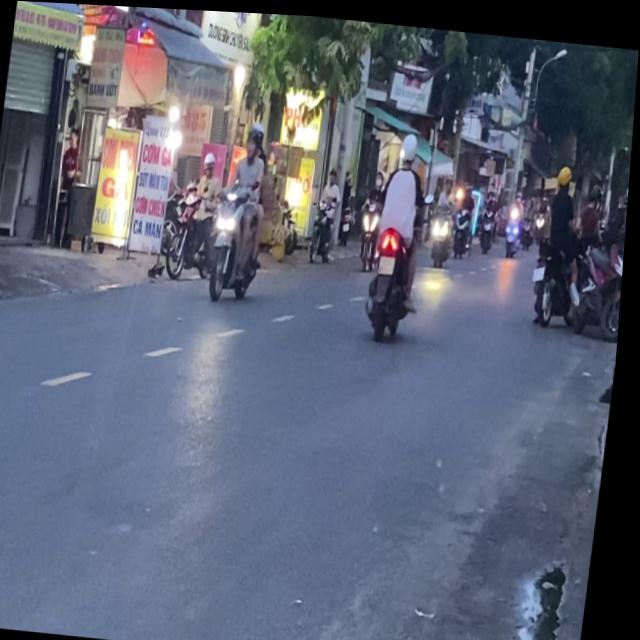helmet: (398, 126, 420, 164), (243, 120, 265, 158)
licenseplate: (364, 123, 438, 338), (206, 112, 281, 305)
nohelmet: (380, 250, 398, 267)
